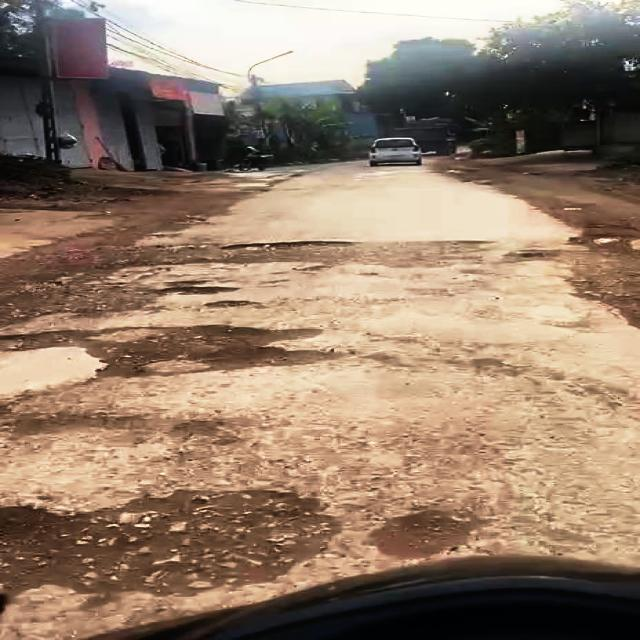pothole: (0, 481, 346, 610), (0, 321, 366, 380), (368, 503, 478, 564), (216, 235, 350, 256), (154, 282, 250, 300)
